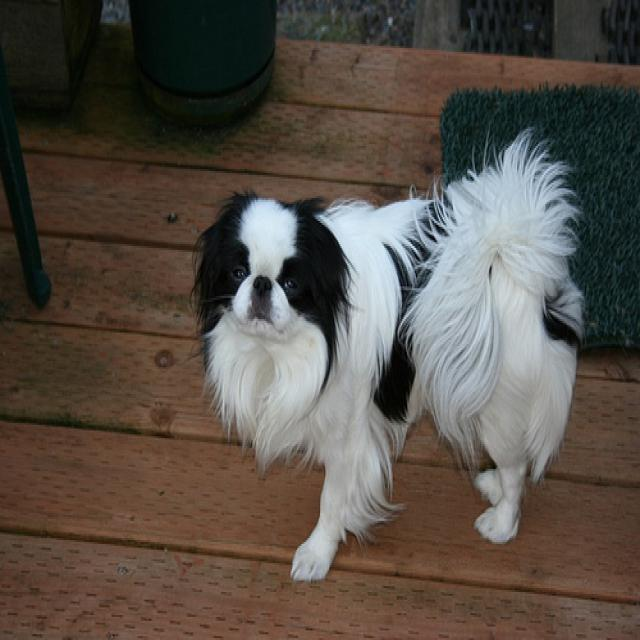dog-japanese_chin: (186, 115, 588, 596)
